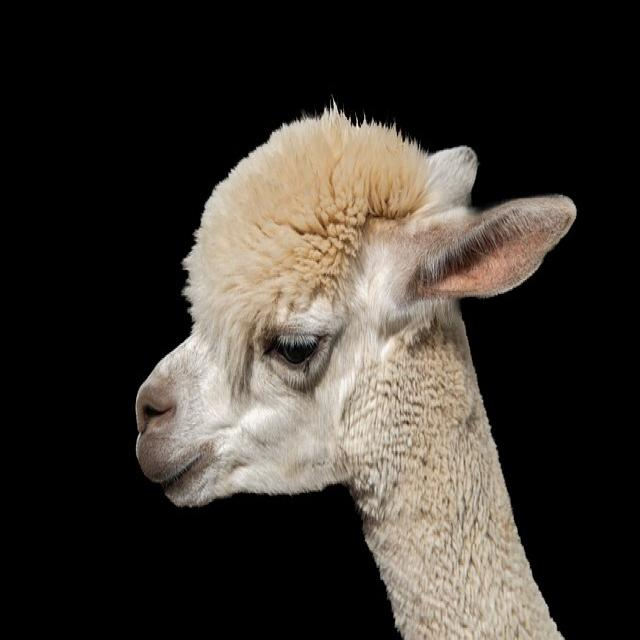Herbivorous: (135, 108, 576, 640)
